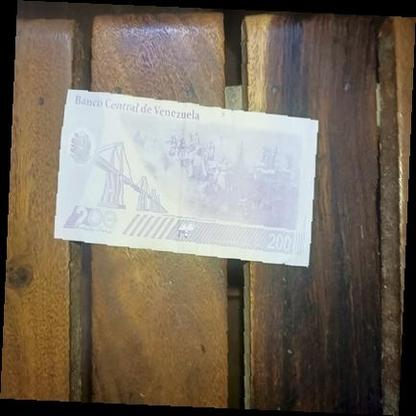two_hundred-back-vef: (53, 88, 320, 267)
